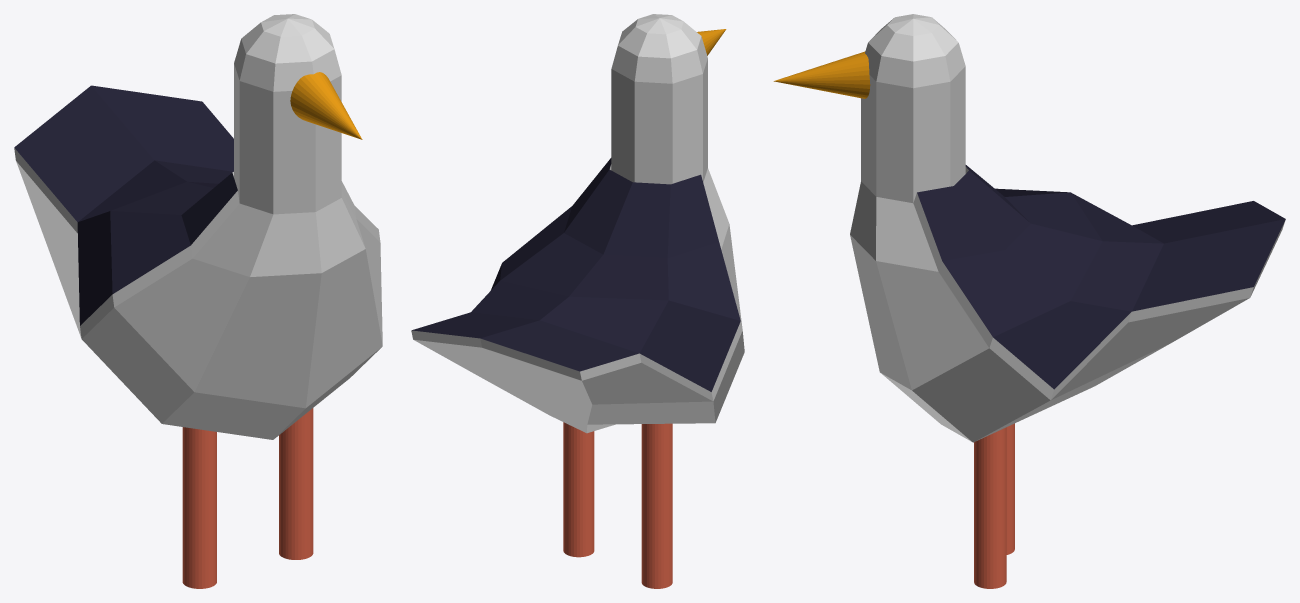
The model's file is SEAGUL.fbx.
3 renders of one model, left to right at view 1: azimuth 30°, elevation 25°; view 2: azimuth 150°, elevation 25°; view 3: azimuth 270°, elevation 25°, orthographic. The views are drawn at different scales.
Visible parts, largest first — view 1: Sphere, Cylinder, Cylinder.001, Cone; view 2: Sphere, Cylinder, Cylinder.001; view 3: Sphere, Cylinder.001, Cone, Cylinder.
Part boxes in pixels (x1,y1,x2,y2): Sphere: (14,14,382,439); Cylinder: (182,427,216,588); Cylinder.001: (279,408,313,559); Cone: (290,72,362,139); Sphere: (411,14,744,433); Cylinder: (641,423,672,588); Cylinder.001: (563,422,594,557); Sphere: (850,14,1285,442); Cylinder.001: (974,427,1006,588); Cone: (773,51,870,98); Cylinder: (1006,423,1014,554).
Bounding box in the file's own units: 552 × 1160 × 980.
